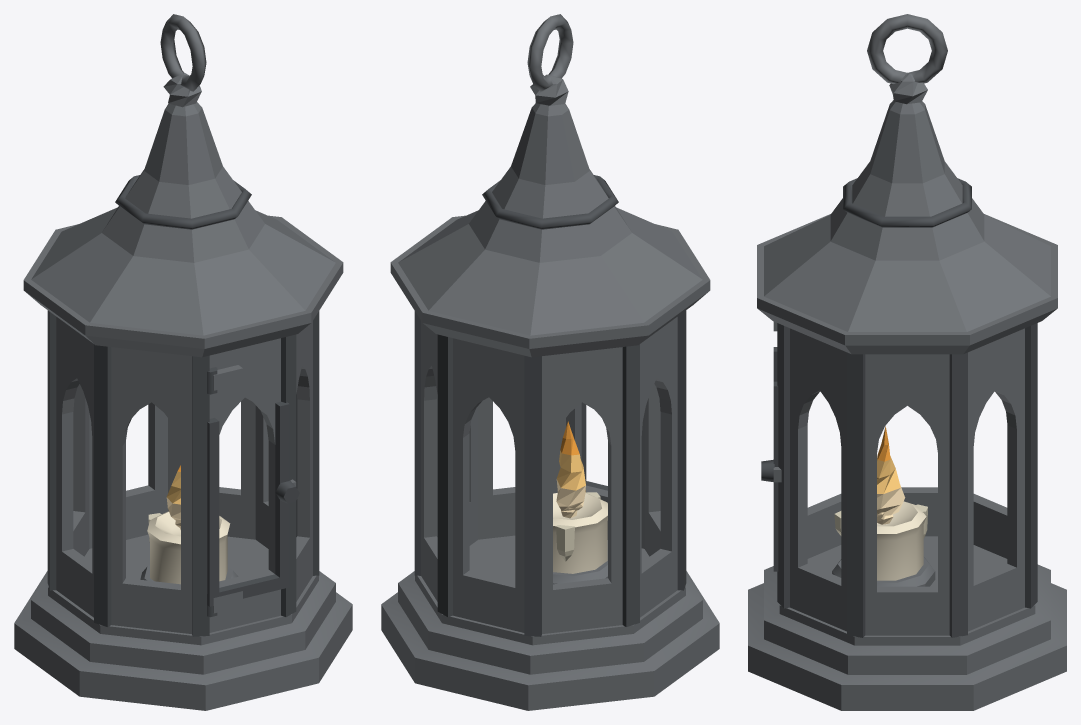
File: SM_LPD_Light_LanternFloor_01.fbx
3 renders of one model, left to right at view 1: azimuth 30°, elevation 25°; view 2: azimuth 150°, elevation 25°; view 3: azimuth 270°, elevation 25°, orthographic.
Parts seen in each view (by area): view 1: SM_LPD_Light_LanternFloor_01; view 2: SM_LPD_Light_LanternFloor_01; view 3: SM_LPD_Light_LanternFloor_01.
Part boxes in pixels (left/top/right/bottom): SM_LPD_Light_LanternFloor_01: left=14, top=14, right=352, bottom=710; SM_LPD_Light_LanternFloor_01: left=381, top=14, right=719, bottom=710; SM_LPD_Light_LanternFloor_01: left=748, top=14, right=1066, bottom=710.
Bounding box in the file's own units: 0.3339 × 0.7275 × 0.3339.
